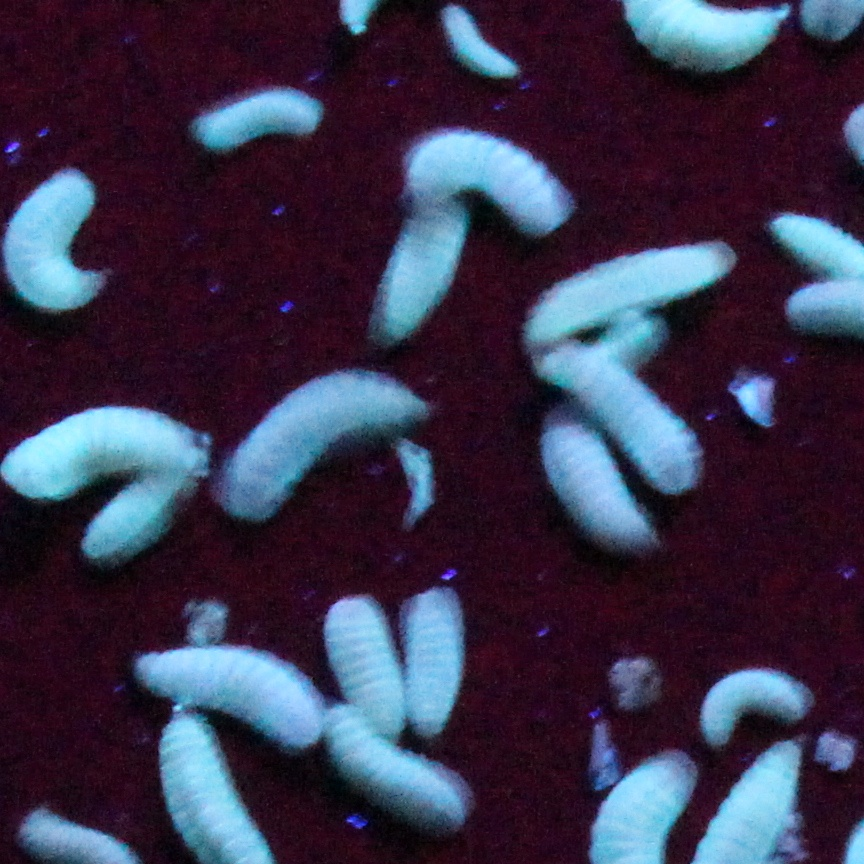larve: (221, 367, 431, 517), (543, 342, 698, 494), (527, 247, 732, 340), (131, 643, 315, 744), (398, 127, 568, 228), (333, 716, 462, 832), (543, 416, 638, 551), (323, 599, 405, 730), (373, 219, 460, 337), (180, 83, 319, 148), (84, 481, 190, 562), (695, 666, 811, 736), (407, 594, 459, 730), (446, 5, 515, 83)
